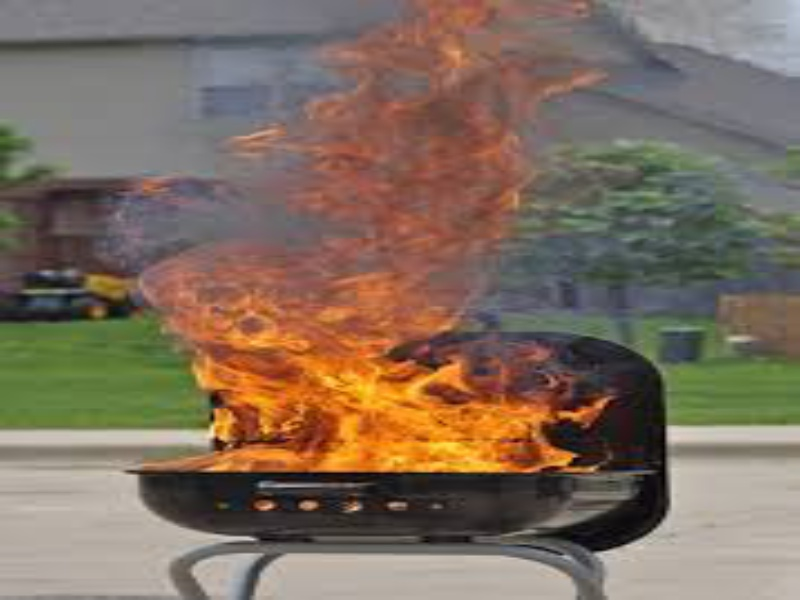fire: (187, 316, 612, 475), (138, 245, 515, 319)
